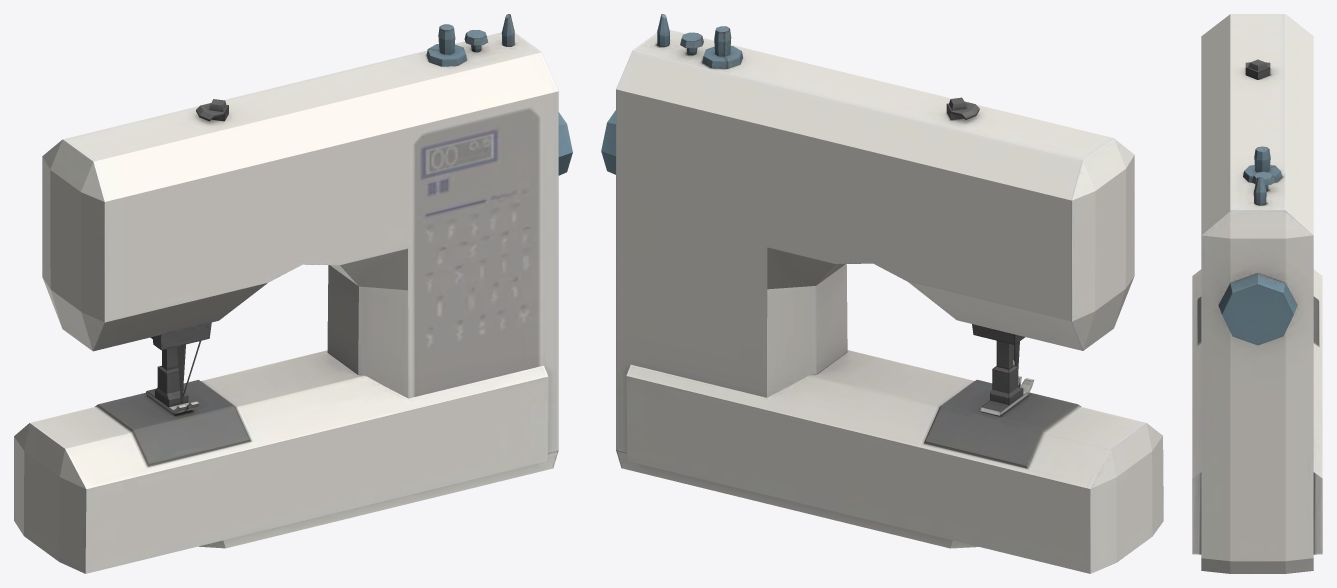
Rendered from dwLFqHHYBxB.glb.
The picture shows the model from 3 angles, left to right: view 1: azimuth 30°, elevation 25°; view 2: azimuth 150°, elevation 25°; view 3: azimuth 270°, elevation 25°; orthographic projection. The views are drawn at different scales.
Parts seen in each view (by area): view 1: SewingMachine_mesh; view 2: SewingMachine_mesh; view 3: SewingMachine_mesh.
Part boxes in pixels (x1,y1,x2,y2): SewingMachine_mesh: (14, 14, 572, 573); SewingMachine_mesh: (601, 14, 1163, 573); SewingMachine_mesh: (1192, 14, 1322, 573).
Size of the model in its own units: 1.23 by 1 by 0.3023.
1 material, 1 textured.
